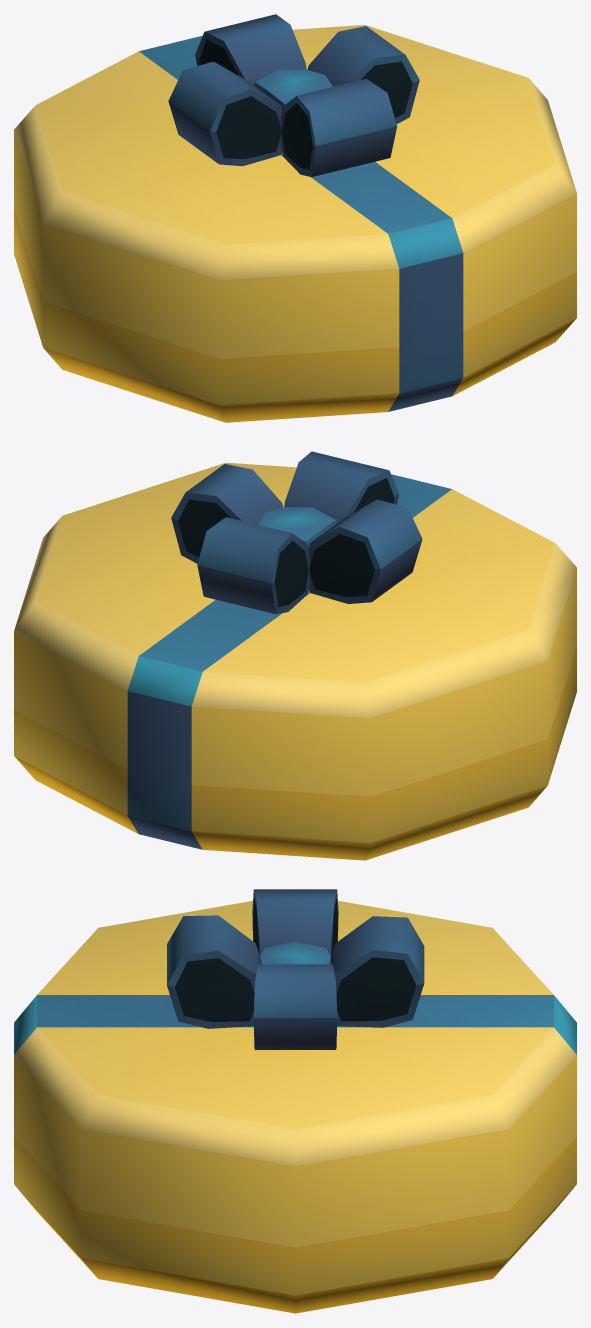
File: presi_round_1_yellow.fbx
3 renders of one model, top to bottom at view 1: azimuth 30°, elevation 25°; view 2: azimuth 150°, elevation 25°; view 3: azimuth 270°, elevation 25°, orthographic. The views are drawn at different scales.
Visible parts, largest first — view 1: presi_round_1_yellow; view 2: presi_round_1_yellow; view 3: presi_round_1_yellow.
Part boxes in pixels (box(x1,y1,x2,y2)): presi_round_1_yellow: box(14, 14, 576, 422); presi_round_1_yellow: box(14, 451, 576, 860); presi_round_1_yellow: box(14, 889, 576, 1313).
Bounding box in the file's own units: 162 × 77.63 × 151.
Materials: 1 (1 with a texture image).
